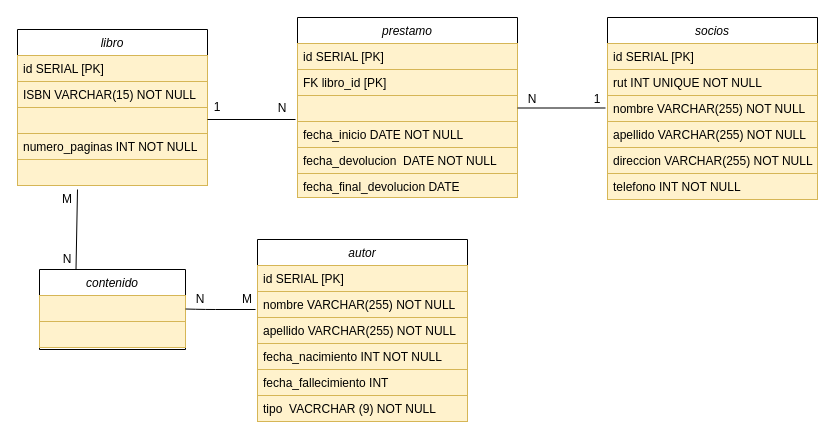
The diagram is 835 pixels wide and 442 high, and some of its shapes have lost their labels. The centre of each missing label's shape, as x and y in pixels:
"fecha_prestamo INT NOT NULL" belongs at pixel 112 172.
"FK autor_id [FK]" belongs at pixel 112 308.
"FK libro_id [FK]" belongs at pixel 112 334.
"FK socio_id [PK]" belongs at pixel 407 108.
"titulo VARCHAR(255) NOT NULL" belongs at pixel 112 120.
